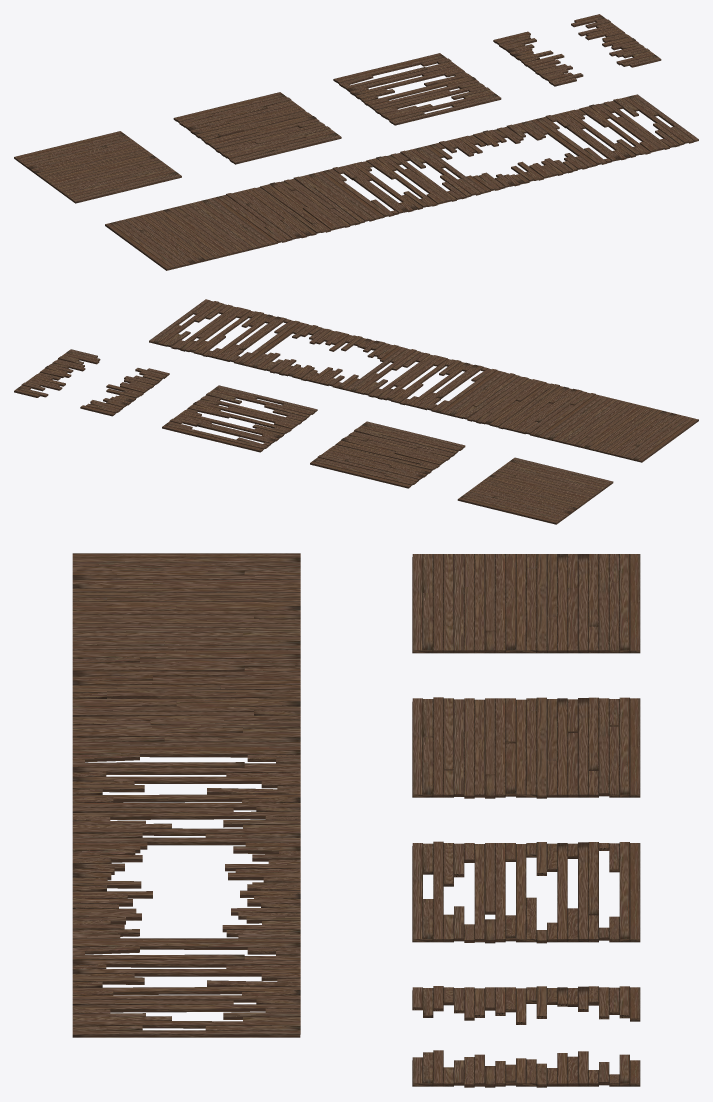
File: pol slomanniy.fbx
3 renders of one model, top to bottom at view 1: azimuth 30°, elevation 25°; view 2: azimuth 150°, elevation 25°; view 3: azimuth 270°, elevation 25°, orthographic. The views are drawn at different scales.
Parts seen in each view (by area): view 1: floor_dmg1_001, floor_flat_001, floor_flat, floor_dmg1_002, floor_dmg2_001, floor_dmg2_003, floor_dmg2_002, floor_dmg1_003, floor_dmg1_004; view 2: floor_dmg1_001, floor_flat, floor_flat_001, floor_dmg1_002, floor_dmg2_001, floor_dmg2_003, floor_dmg2_002, floor_dmg1_003, floor_dmg1_004; view 3: floor_flat, floor_dmg1_001, floor_flat_001, floor_dmg1_002, floor_dmg2_003, floor_dmg2_002, floor_dmg2_001, floor_dmg1_003, floor_dmg1_004.
Boxes of the visible parts, x1,y1,x2,y2 form: floor_dmg1_001: (173, 92, 341, 164); floor_flat_001: (105, 198, 272, 270); floor_flat: (14, 131, 181, 203); floor_dmg1_002: (212, 172, 379, 244); floor_dmg2_001: (333, 53, 501, 125); floor_dmg2_003: (531, 94, 698, 166); floor_dmg2_002: (318, 146, 485, 218); floor_dmg1_003: (493, 14, 661, 86); floor_dmg1_004: (425, 120, 592, 192); floor_dmg1_001: (310, 421, 465, 488); floor_flat: (457, 457, 613, 524); floor_flat_001: (543, 395, 698, 462); floor_dmg1_002: (444, 371, 599, 438); floor_dmg2_001: (162, 385, 317, 452); floor_dmg2_003: (149, 299, 303, 366); floor_dmg2_002: (346, 347, 501, 414); floor_dmg1_003: (14, 349, 169, 416); floor_dmg1_004: (247, 323, 402, 390); floor_flat: (412, 554, 640, 653); floor_dmg1_001: (412, 697, 640, 798); floor_flat_001: (72, 553, 300, 649); floor_dmg1_002: (72, 649, 300, 745); floor_dmg2_003: (72, 938, 300, 1037); floor_dmg2_002: (72, 746, 300, 845); floor_dmg2_001: (412, 841, 640, 943); floor_dmg1_003: (412, 986, 640, 1087); floor_dmg1_004: (72, 842, 300, 938).
Size of the model in its own units: 876 by 4.79 by 396.
